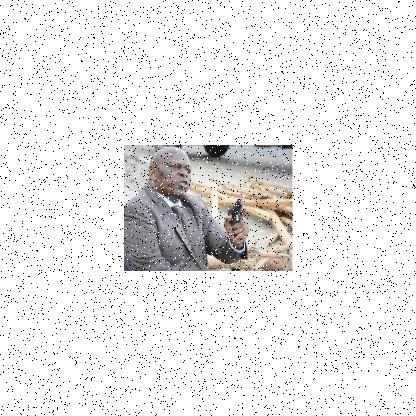gun: (224, 198, 248, 244)
